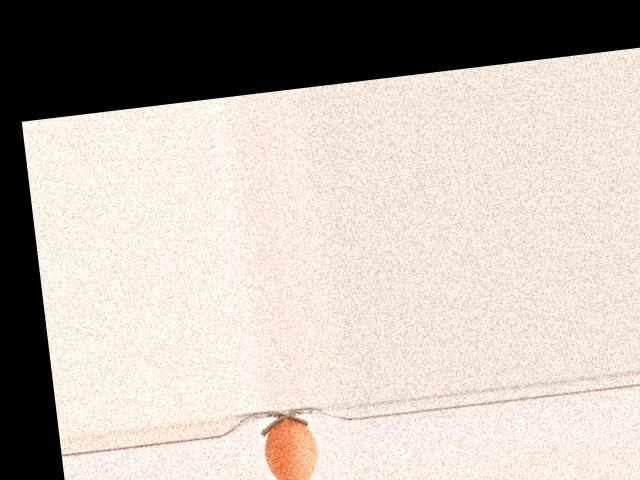egg: (262, 417, 321, 480)
